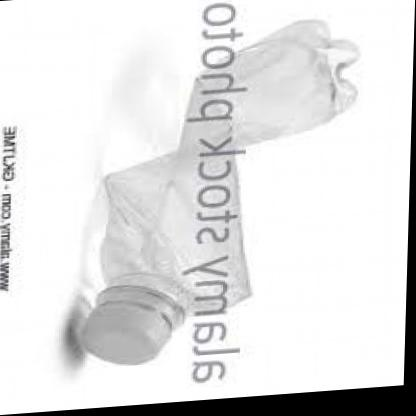Plastic: (38, 16, 386, 372)
